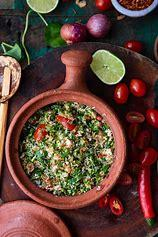Gotukola Mallum: (23, 102, 118, 204)
